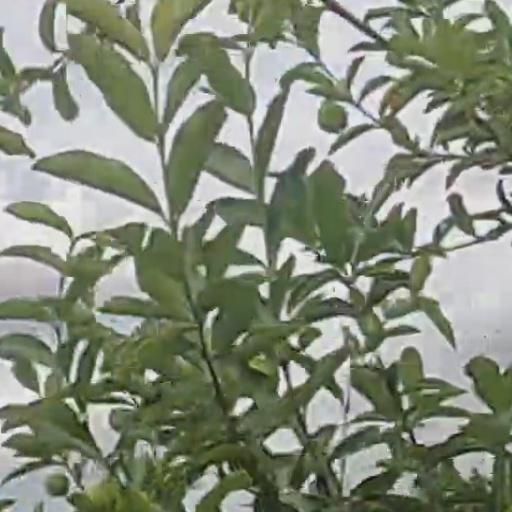acerola: (320, 101, 346, 134)
